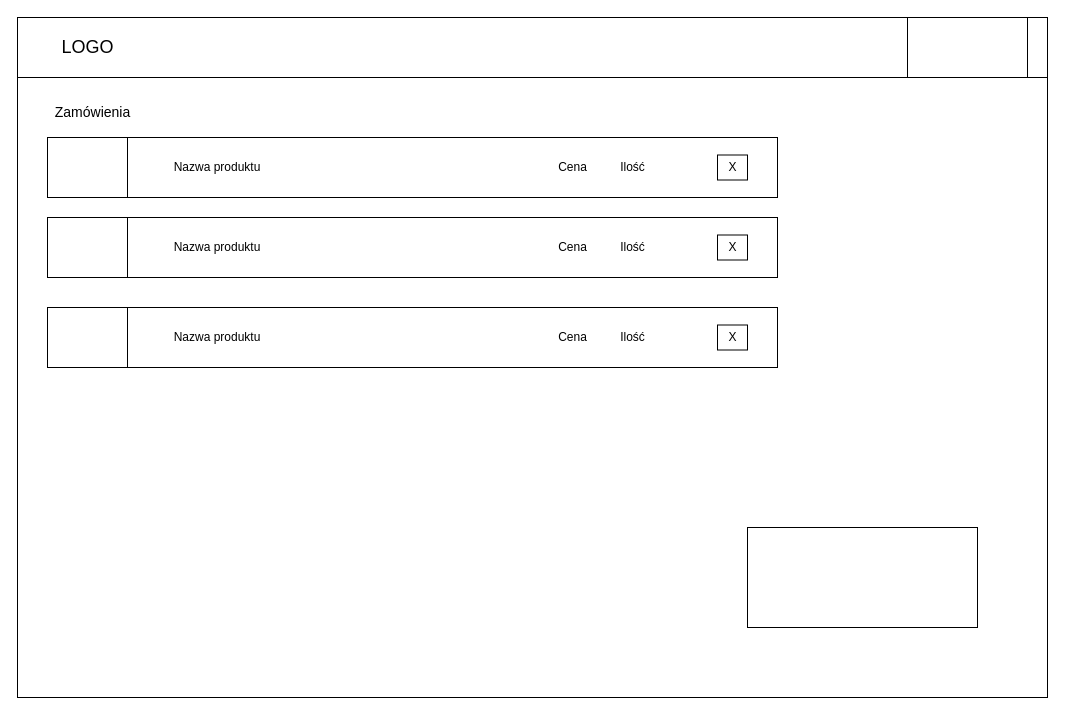
The diagram is 1065 pixels wide and 715 high, and some of its shapes have lost their labels. The centre of each missing label's shape, as x and y in pixels:
"Wyloguj się" goes at point (967, 47).
"Zamów" goes at point (862, 577).
